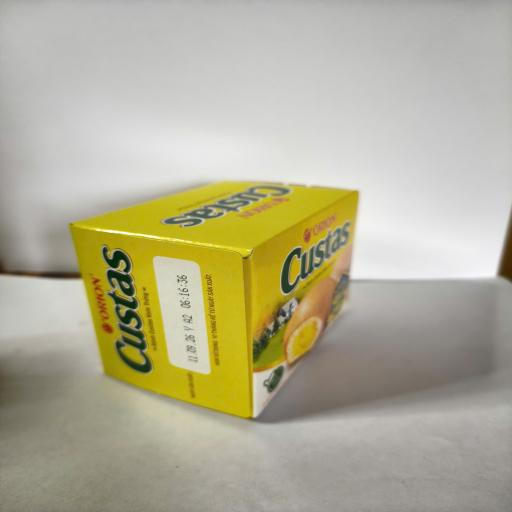custas: (69, 181, 359, 418)
